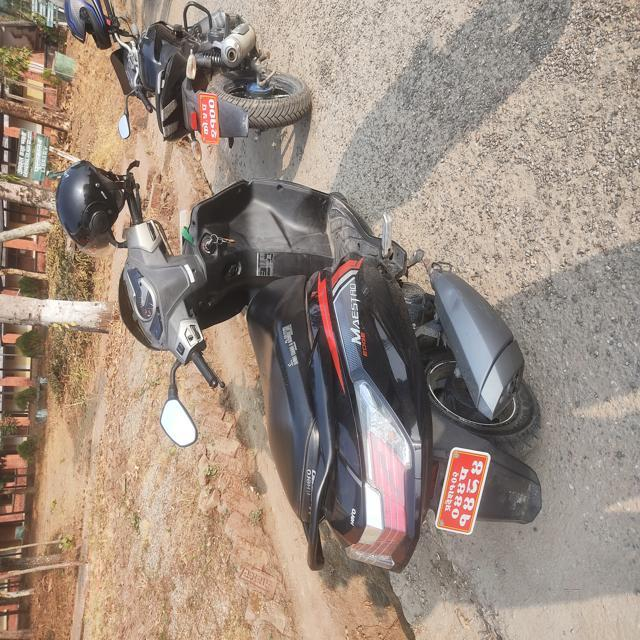license_plate: (426, 424, 507, 546)
